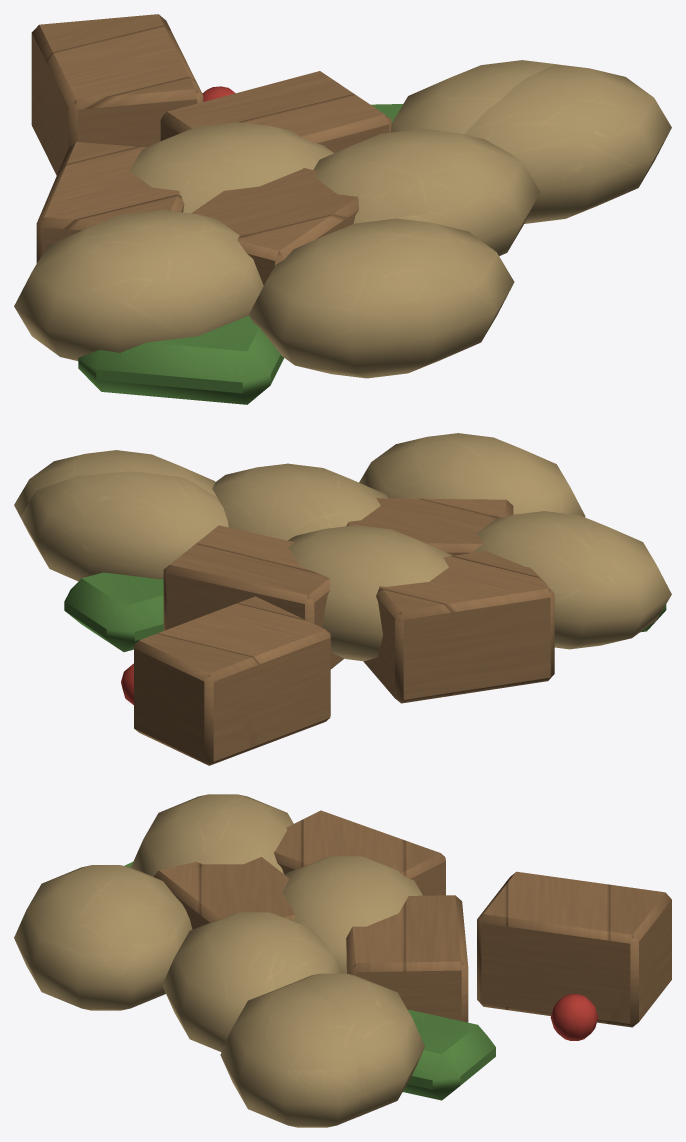
The model's file is cargo_spill_farming.glb.
3 renders of one model, top to bottom at view 1: azimuth 30°, elevation 25°; view 2: azimuth 150°, elevation 25°; view 3: azimuth 270°, elevation 25°, orthographic. The views are drawn at different scales.
Parts seen in each view (by area): view 1: cargo_spill_farming; view 2: cargo_spill_farming; view 3: cargo_spill_farming.
Part boxes in pixels (x1=…): cargo_spill_farming: x1=14, y1=14, x2=671, y2=404; cargo_spill_farming: x1=14, y1=433, x2=671, y2=765; cargo_spill_farming: x1=14, y1=794, x2=671, y2=1127.
Bounding box in the file's own units: 1.99 × 0.36 × 1.93.
Materials: 4 (4 with a texture image).
